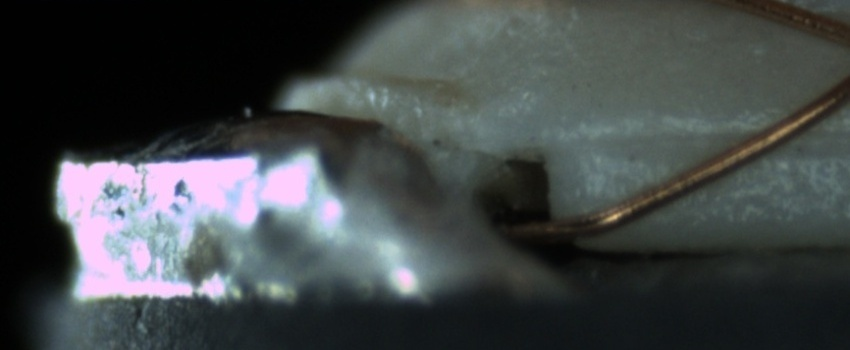DL: (602, 103, 848, 174)
